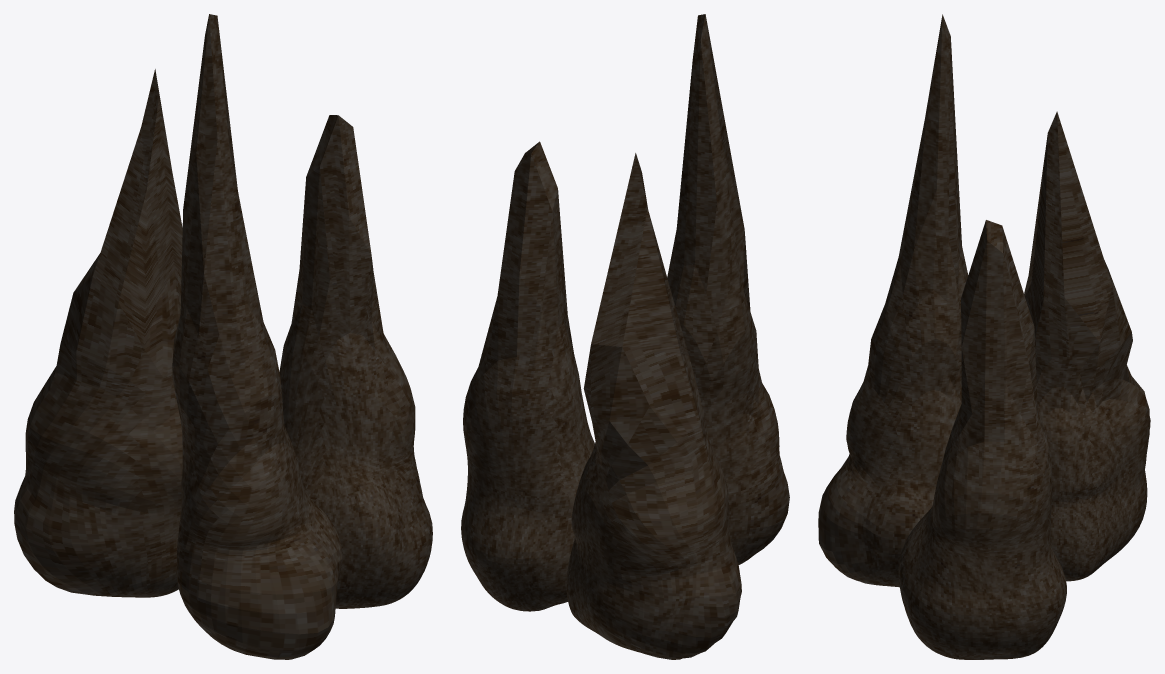
File: stalakmite2.glb
The picture shows the model from 3 angles, left to right: view 1: azimuth 30°, elevation 25°; view 2: azimuth 150°, elevation 25°; view 3: azimuth 270°, elevation 25°; orthographic projection. The views are drawn at different scales.
Parts seen in each view (by area): view 1: Cube.001; view 2: Cube.001; view 3: Cube.001.
Boxes of the visible parts, box(x1,y1,x2,y2) form: Cube.001: box(14, 14, 432, 659); Cube.001: box(461, 14, 789, 659); Cube.001: box(818, 14, 1150, 659).
Size of the model in its own units: 0.7315 by 1.33 by 0.701.
1 material, 1 textured.
